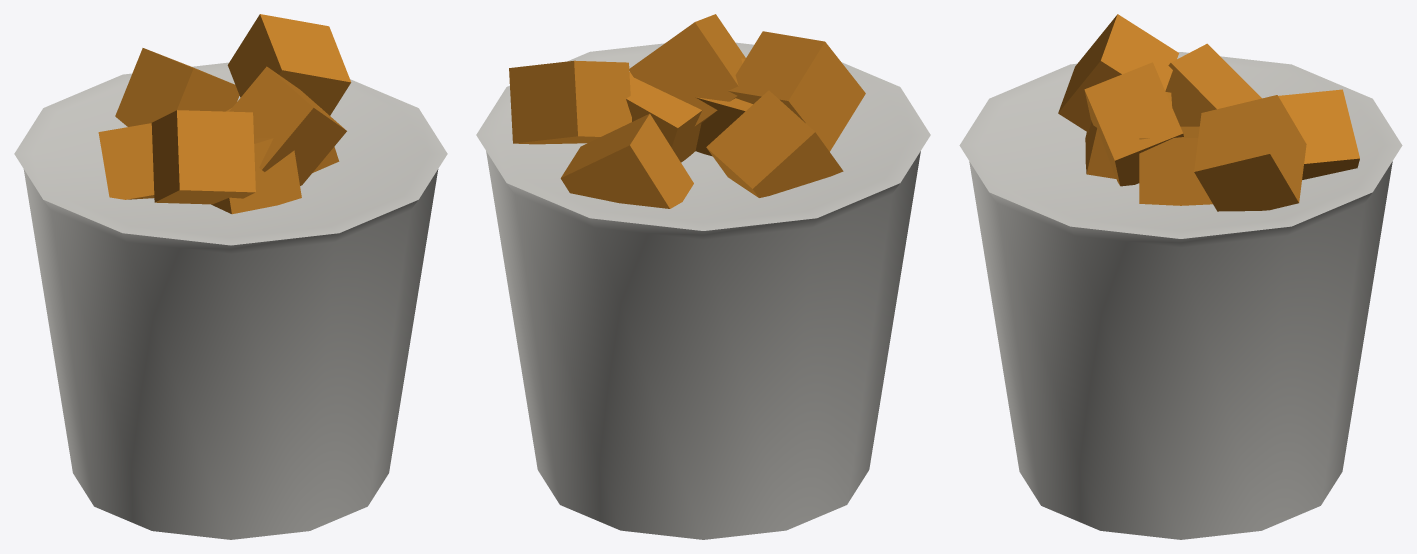
File: side-cup.glb
The picture shows the model from 3 angles, left to right: view 1: azimuth 30°, elevation 25°; view 2: azimuth 150°, elevation 25°; view 3: azimuth 270°, elevation 25°; orthographic projection. The views are drawn at different scales.
Visible parts, largest first — view 1: BODY; view 2: BODY; view 3: BODY.
Boxes of the visible parts, bbox=[...] form: BODY: bbox=[14, 14, 447, 539]; BODY: bbox=[476, 14, 930, 539]; BODY: bbox=[959, 14, 1402, 539].
Size of the model in its own units: 0.096 by 0.1005 by 0.096.
